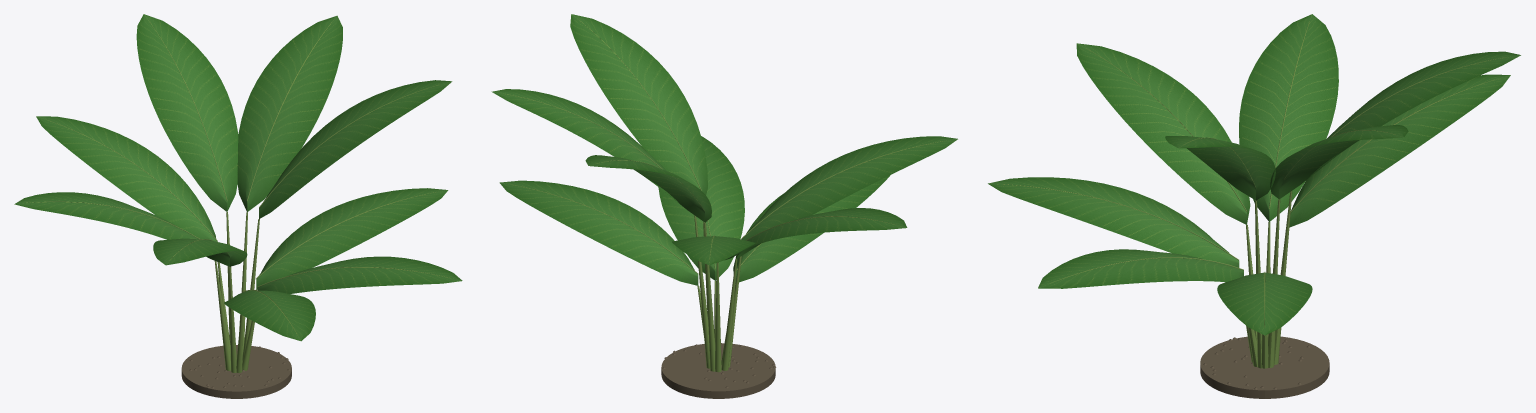
File: turmeric.glb
The picture shows the model from 3 angles, left to right: view 1: azimuth 30°, elevation 25°; view 2: azimuth 150°, elevation 25°; view 3: azimuth 270°, elevation 25°; orthographic projection. The views are drawn at different scales.
Parts seen in each view (by area): view 1: turmeric; view 2: turmeric; view 3: turmeric.
Boxes of the visible parts, x1,y1,x2,y2 form: turmeric: [14, 14, 462, 398]; turmeric: [491, 14, 957, 398]; turmeric: [988, 14, 1520, 398].
Size of the model in its own units: 0.8238 by 0.5276 by 0.7839.
3 materials, 1 textured.
